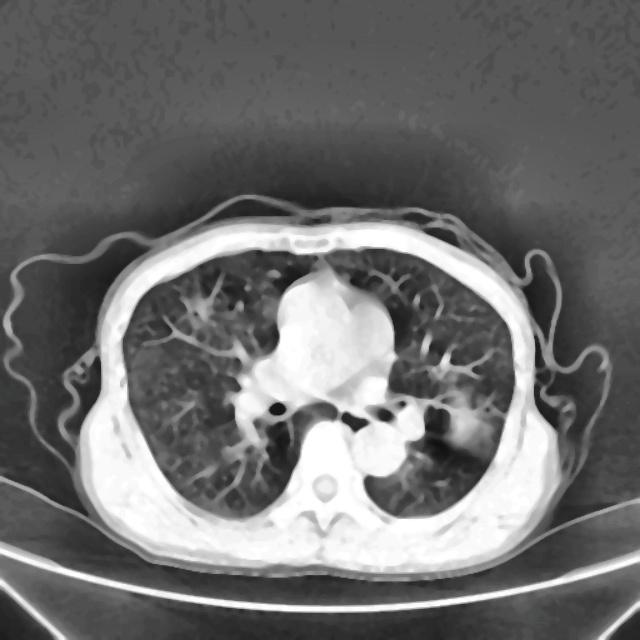covid: (63, 199, 611, 582)
